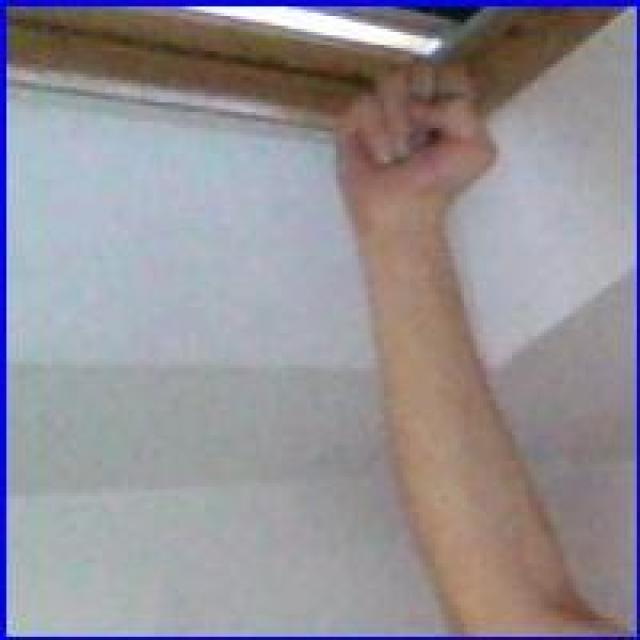S: (327, 48, 502, 227)
